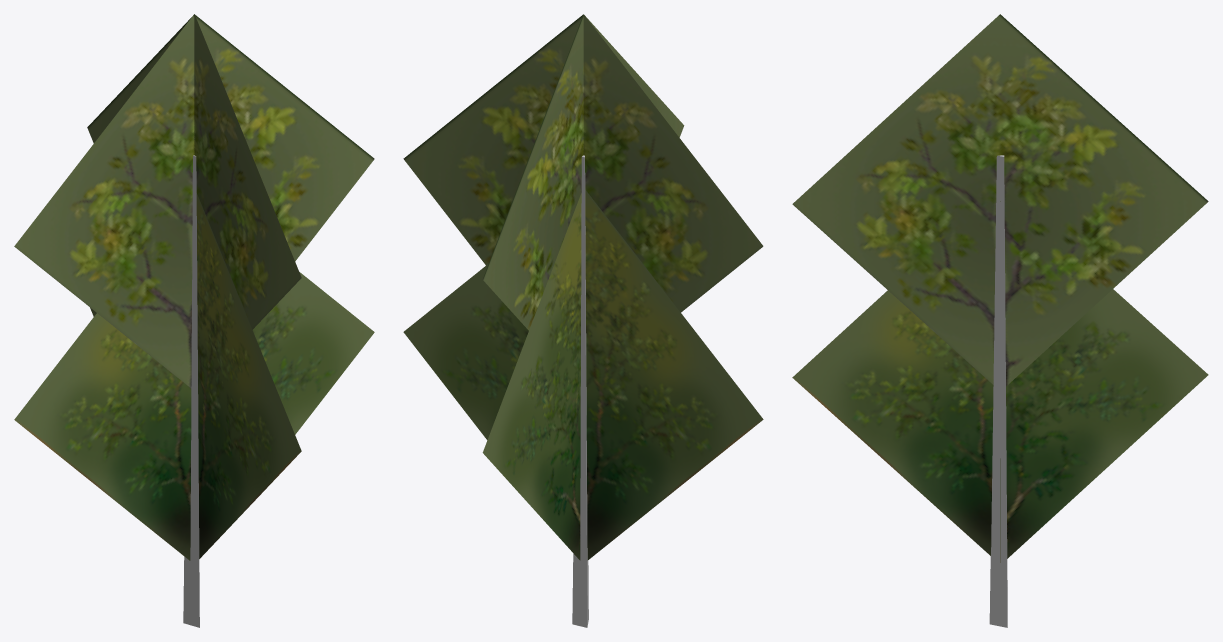
The model's file is JiaYeSiWai1_YuanJingShu_2.FBX.
The picture shows the model from 3 angles, left to right: view 1: azimuth 30°, elevation 25°; view 2: azimuth 150°, elevation 25°; view 3: azimuth 270°, elevation 25°; orthographic projection.
Parts seen in each view (by area): view 1: JiaYeSiWai1_YuanJingShu_2a, JiaYeSiWai1_YuanJingShu_2b; view 2: JiaYeSiWai1_YuanJingShu_2a, JiaYeSiWai1_YuanJingShu_2b; view 3: JiaYeSiWai1_YuanJingShu_2a, JiaYeSiWai1_YuanJingShu_2b.
Part boxes in pixels (x1,y1,x2,y2): JiaYeSiWai1_YuanJingShu_2a: (14, 14, 374, 560); JiaYeSiWai1_YuanJingShu_2b: (183, 155, 199, 627); JiaYeSiWai1_YuanJingShu_2a: (403, 14, 763, 560); JiaYeSiWai1_YuanJingShu_2b: (572, 155, 588, 627); JiaYeSiWai1_YuanJingShu_2a: (792, 14, 1208, 562); JiaYeSiWai1_YuanJingShu_2b: (989, 155, 1007, 627).
Bounding box in the file's own units: 361 × 584 × 361.
